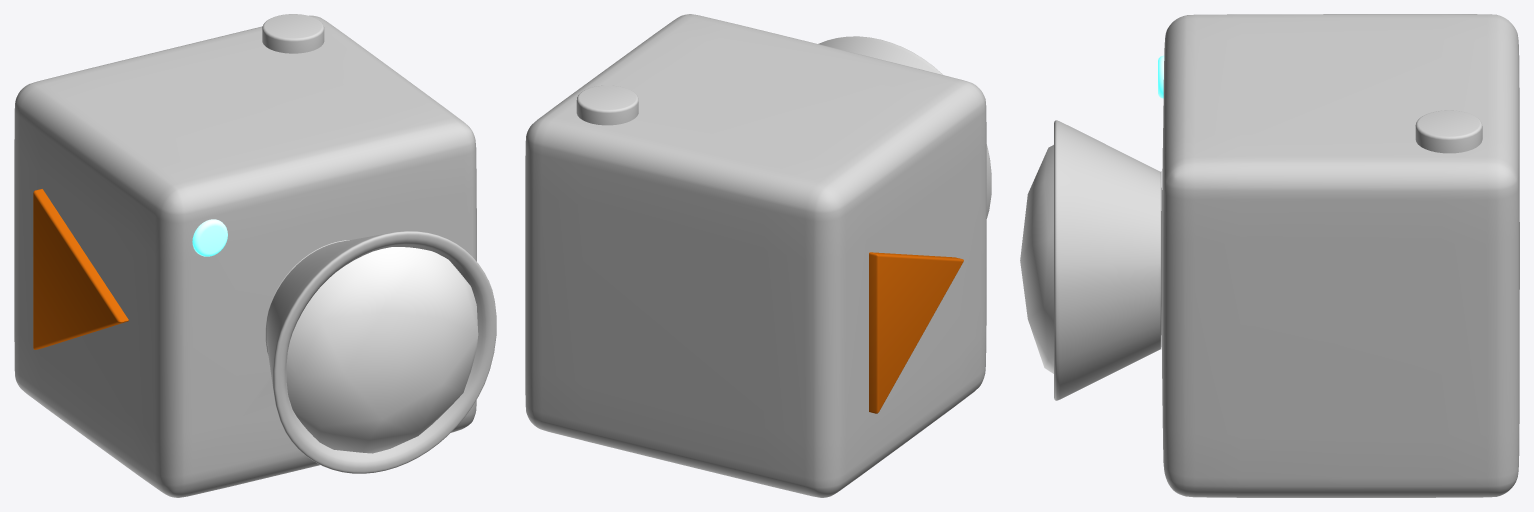
The model's file is camera.gltf.
3 renders of one model, left to right at view 1: azimuth 30°, elevation 25°; view 2: azimuth 150°, elevation 25°; view 3: azimuth 270°, elevation 25°, orthographic. The views are drawn at different scales.
Parts seen in each view (by area): view 1: Cube.012; view 2: Cube.012; view 3: Cube.012.
Boxes of the visible parts, x1,y1,x2,y2 form: Cube.012: [14, 14, 496, 497]; Cube.012: [525, 14, 991, 497]; Cube.012: [1020, 14, 1519, 497].
Size of the model in its own units: 1.35 by 1.3 by 1.67.
